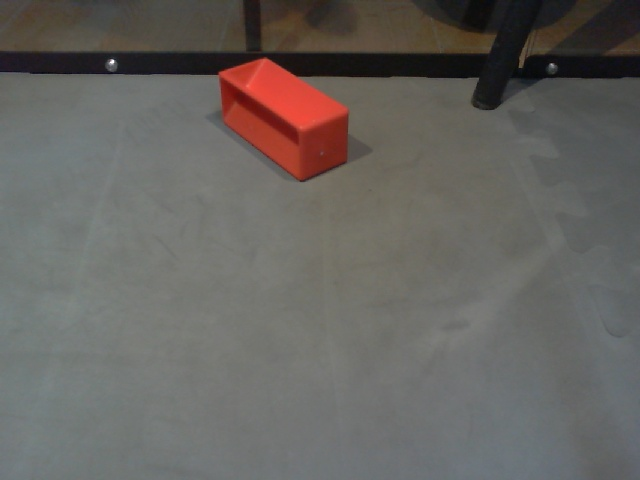RedSample: (217, 56, 349, 185)
